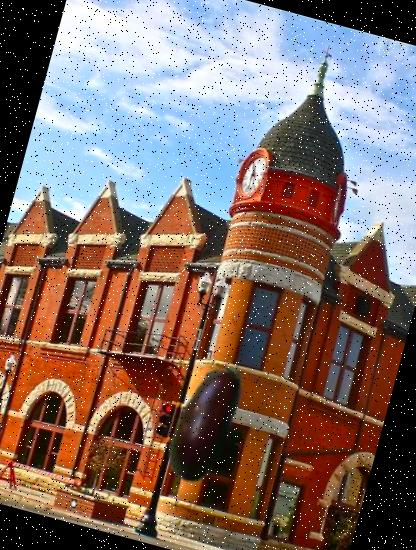Eggplant: (126, 341, 286, 501)
